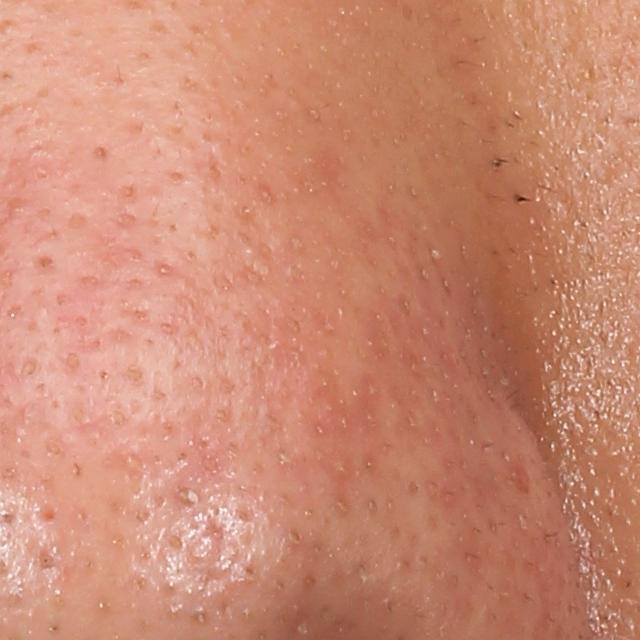comedo: (164, 480, 204, 515), (15, 356, 43, 382), (62, 347, 85, 378), (121, 363, 144, 389), (89, 143, 115, 165), (152, 258, 177, 280)
